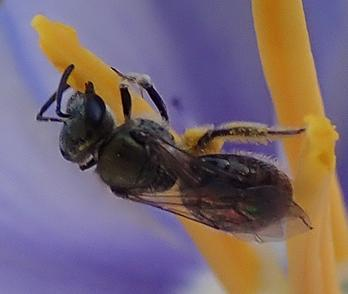Braunsapis: (36, 61, 321, 252)
